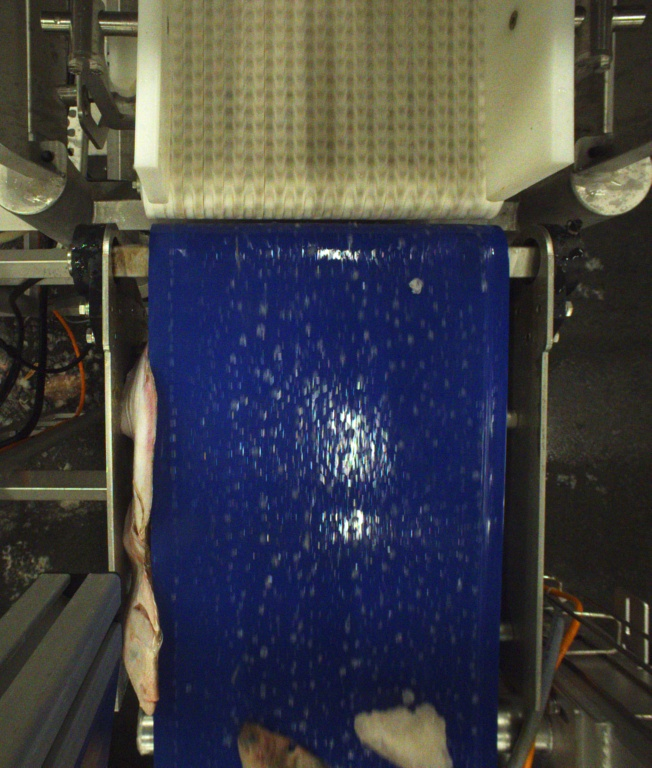WIT: (227, 719, 316, 768)
